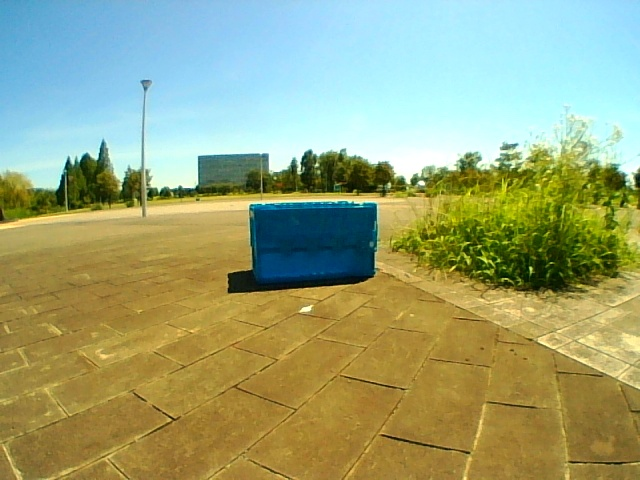blue_box: (251, 205, 375, 276)
